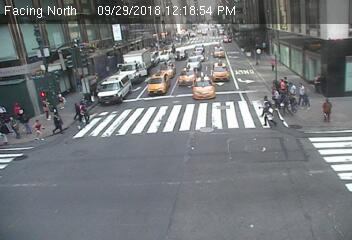car: (95, 72, 133, 104), (118, 50, 151, 83), (189, 73, 214, 99), (147, 68, 169, 95), (212, 59, 229, 83), (178, 65, 197, 85), (185, 58, 206, 71), (159, 59, 175, 76), (210, 42, 224, 57), (189, 50, 207, 60), (222, 32, 235, 43), (193, 43, 206, 49)
